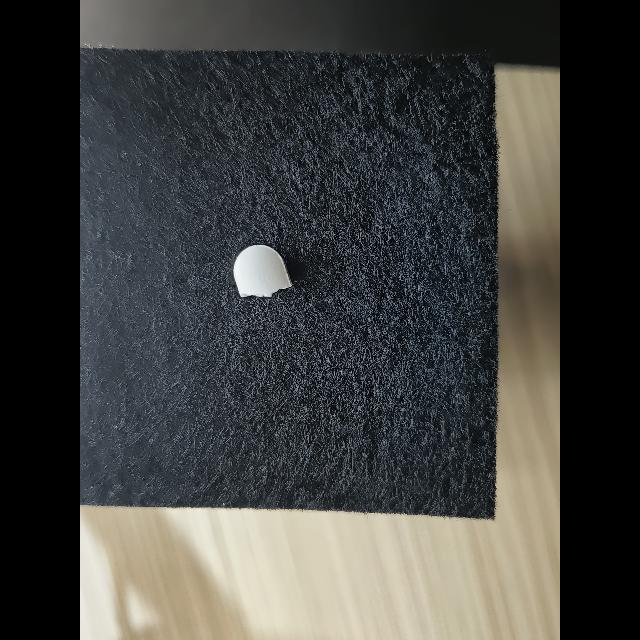Chipped Pill: (233, 245, 293, 297)
